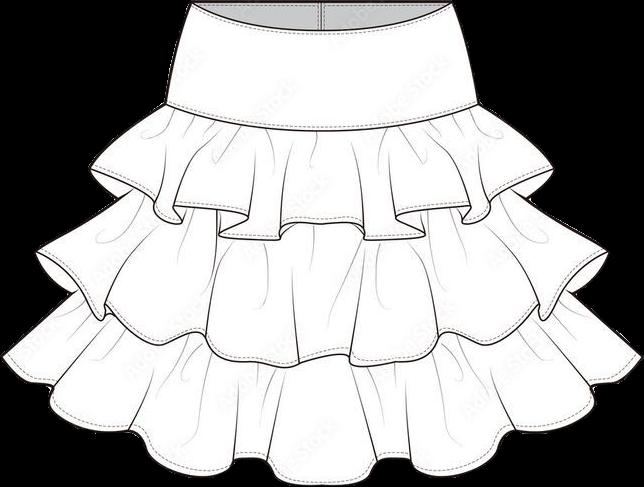Hemline: (1, 351, 641, 486), (33, 249, 608, 370), (87, 164, 555, 244)
Waistline: (161, 100, 483, 130), (186, 2, 449, 35)
